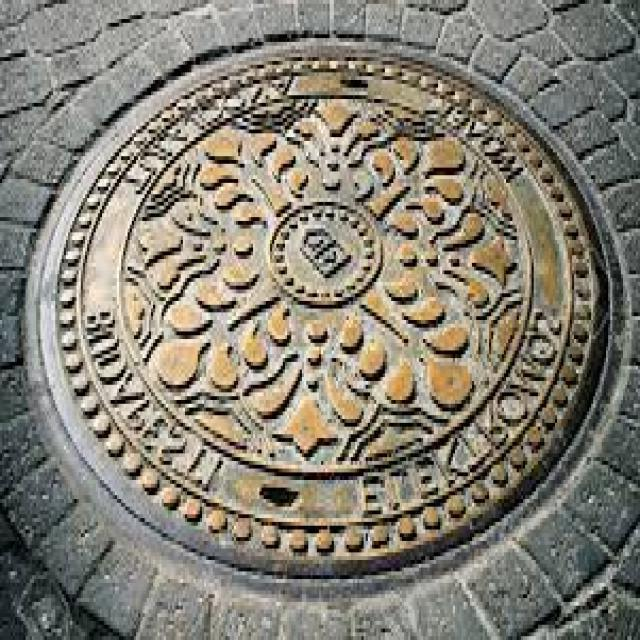Sewer Cover: (13, 13, 617, 640)
